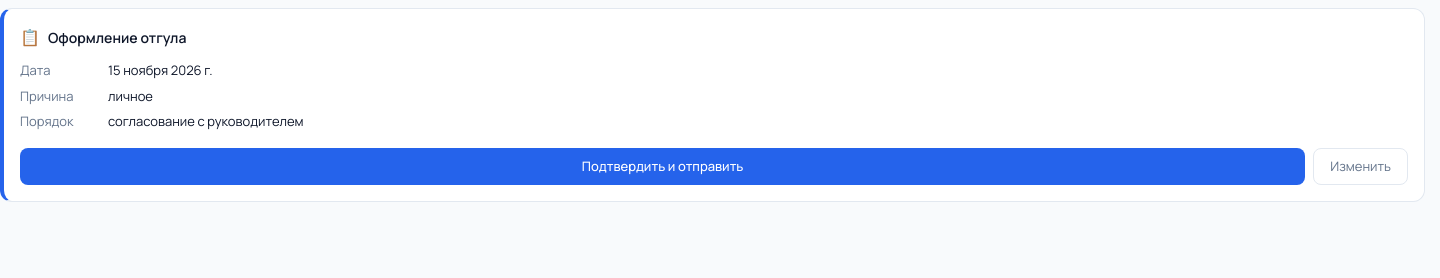
Test: ActionCard › по клику «Изменить» переходит в режим редактирования
Step 1. Click the button "Изменить" → (1361, 166), box [1313,148,1408,185]
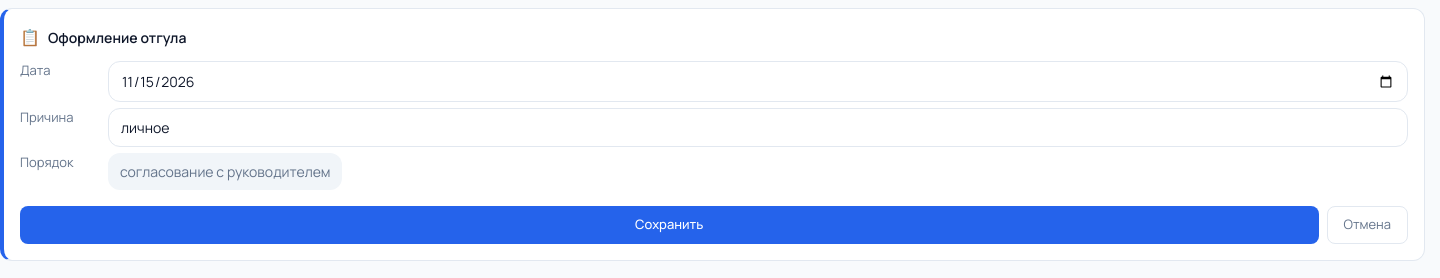
expect the button "Сохранить" is shown: met, box [20,206,1318,244]
expect the button "Отмена" is shown: met, box [1326,206,1408,244]
expect the field showing "личное" is shown: met, box [108,108,1408,147]
